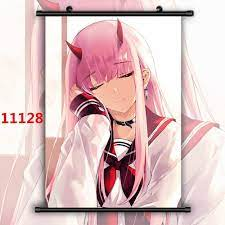zeroTwo: (63, 18, 166, 115)
